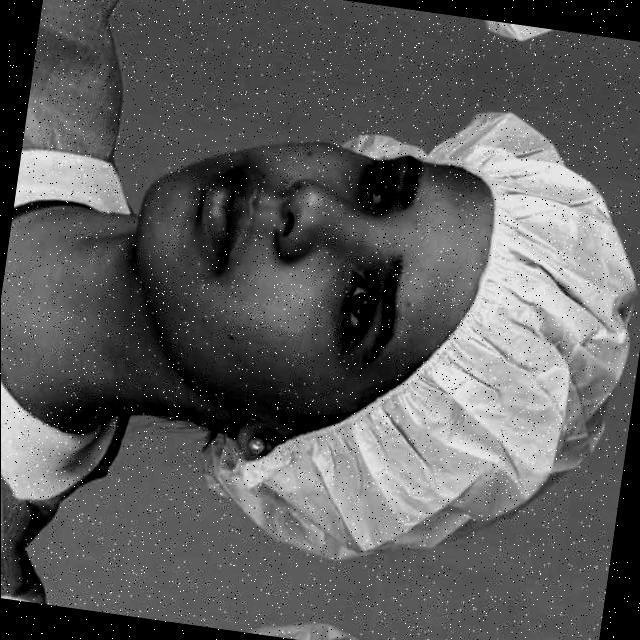gloves: (434, 91, 636, 508)
no_hairnet: (186, 164, 339, 304)
